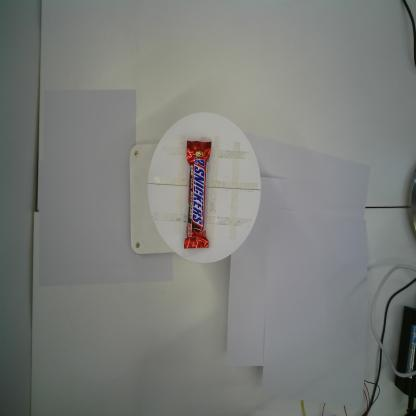Chocolate: (183, 138, 213, 250)
